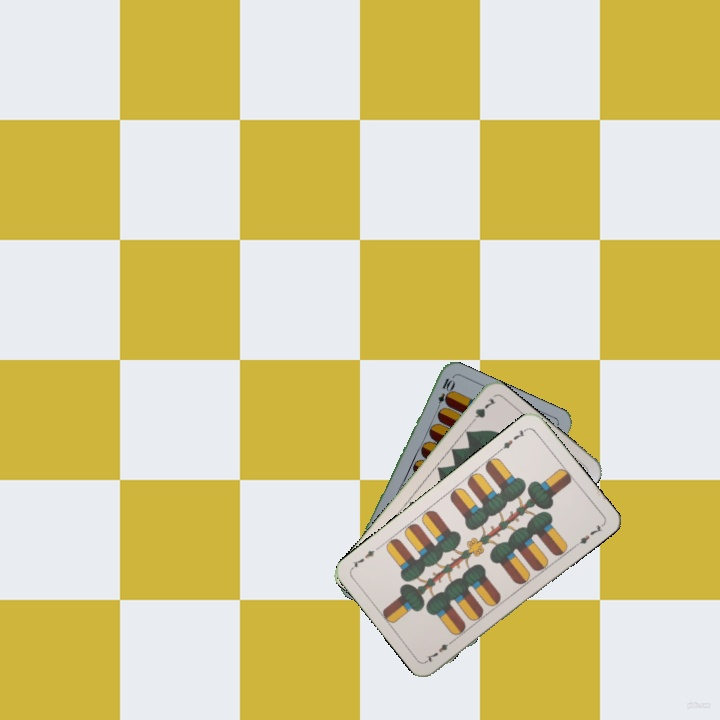E10: (432, 374, 456, 414)
E7: (496, 424, 531, 454), (422, 635, 457, 664)
G7: (465, 393, 498, 428)
